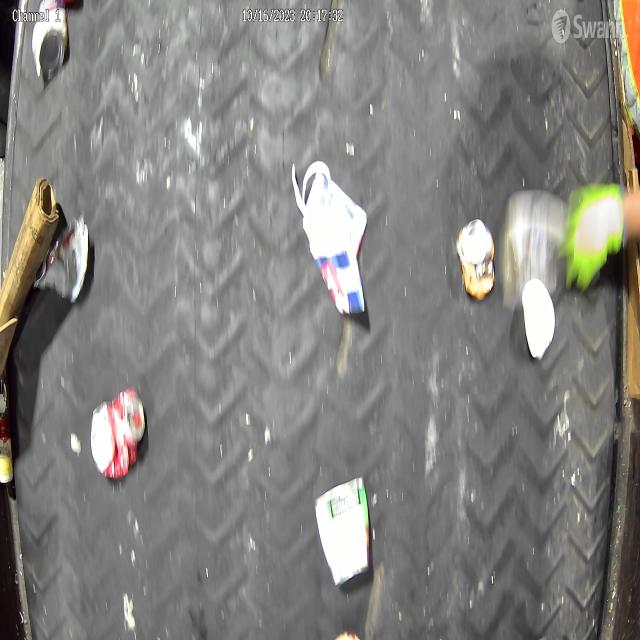can: (90, 386, 146, 480), (456, 218, 496, 302), (32, 0, 68, 82)
